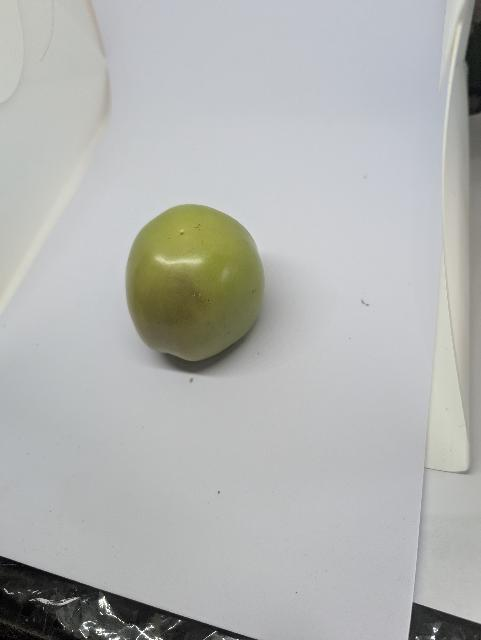green: (119, 195, 275, 373)
